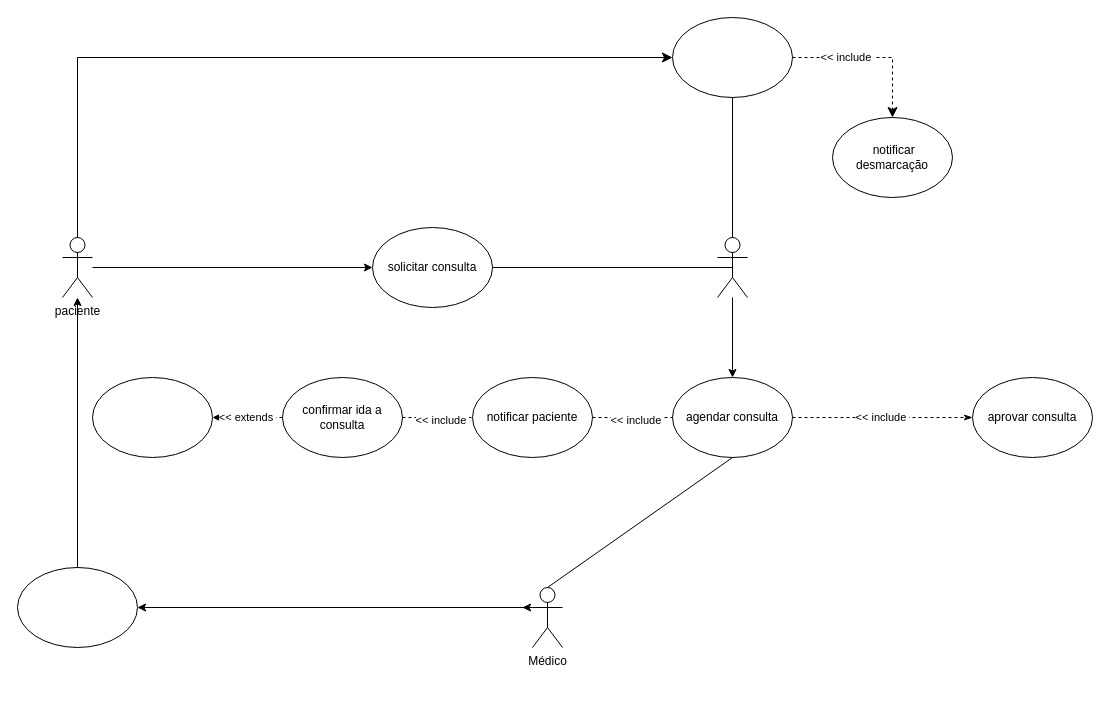
The diagram is 1110 pixels wide and 701 high, and some of its shapes have lost their labels. Each missing label, with the centre of its shape:
"realizar consulta" goes at [77,607].
"realizar pagamento" goes at [152,417].
"Recepcionista" goes at [732,267].
"solicita cancelamento" goes at [732,57].
